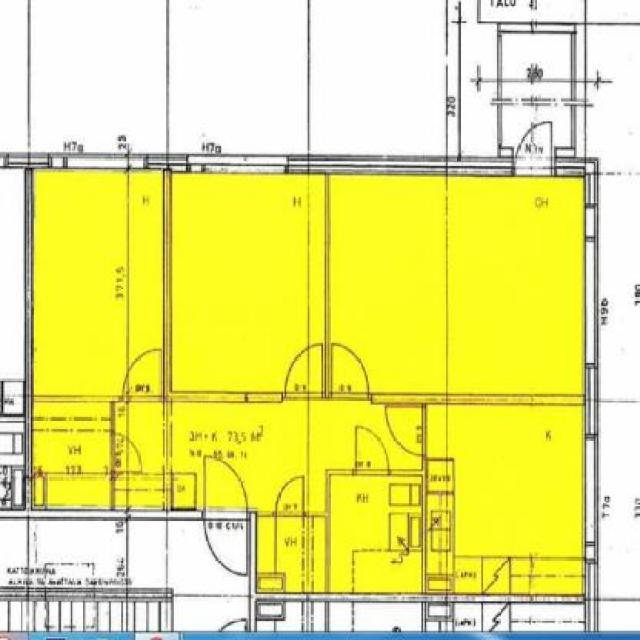door: (329, 171, 586, 394), (34, 168, 166, 506), (172, 172, 326, 390), (429, 406, 583, 594), (169, 406, 306, 512), (31, 400, 163, 505), (309, 400, 422, 512), (331, 475, 423, 597), (200, 454, 251, 588), (256, 518, 326, 594), (283, 342, 326, 403), (124, 343, 164, 405), (329, 342, 369, 402), (512, 126, 552, 180), (382, 406, 424, 457), (355, 425, 388, 477), (277, 471, 306, 518), (110, 437, 144, 471)
window: (189, 154, 288, 174), (49, 152, 146, 172), (586, 368, 597, 432)
